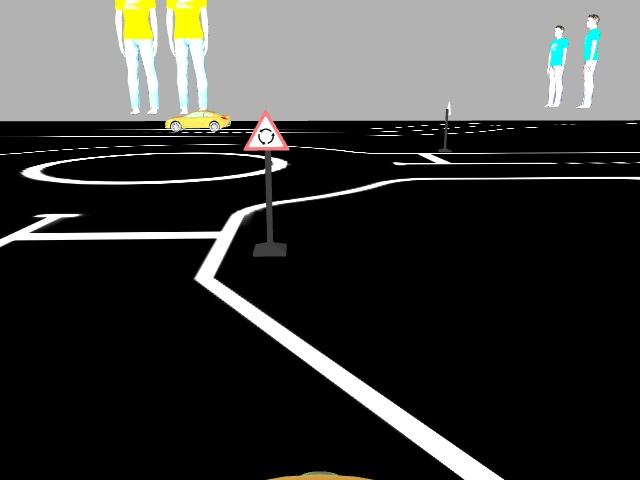Roundabout: (242, 108, 290, 150)
